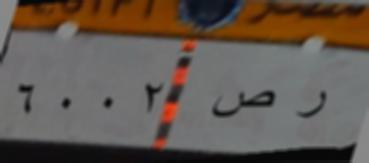0: (99, 92, 119, 115), (56, 93, 76, 114)
2: (135, 74, 170, 116)
6: (11, 78, 38, 118)
raa: (288, 84, 342, 128)
saad: (206, 84, 280, 128)
